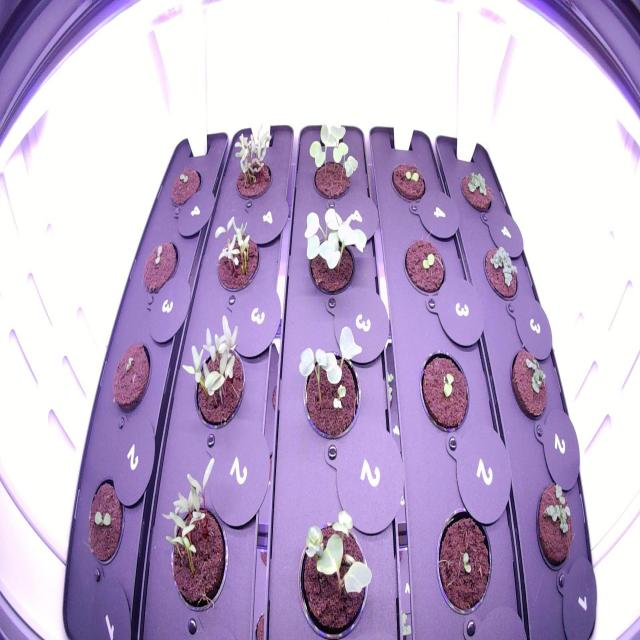germination: (156, 447, 233, 620), (285, 502, 379, 634), (286, 319, 366, 445), (179, 308, 248, 437), (428, 499, 500, 622), (293, 200, 370, 299), (296, 112, 362, 209), (222, 112, 280, 206), (415, 346, 474, 438), (208, 204, 264, 298), (529, 473, 579, 577), (81, 468, 130, 574), (506, 340, 556, 431), (108, 335, 153, 423), (478, 238, 524, 312), (400, 233, 448, 300), (138, 230, 182, 300), (453, 160, 498, 222), (386, 153, 430, 210), (166, 159, 206, 214)
